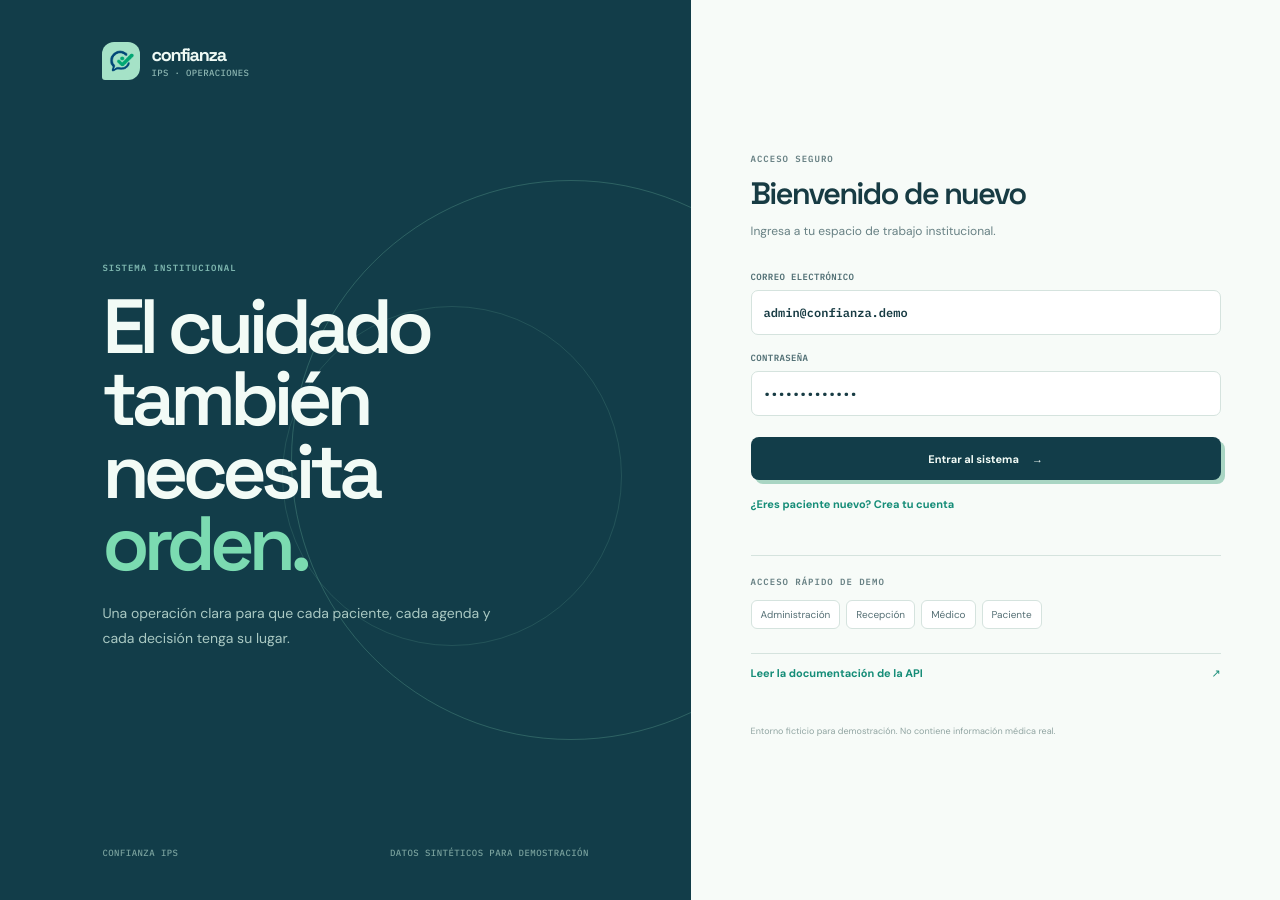
it: LoginScreen › opens a patient-only registration form and validates password confirmation
The width and height of the screenshot is (1280, 900).
Click the button "¿Eres paciente nuevo? Crea tu cuenta" at [852, 504], box [751,497,954,511]
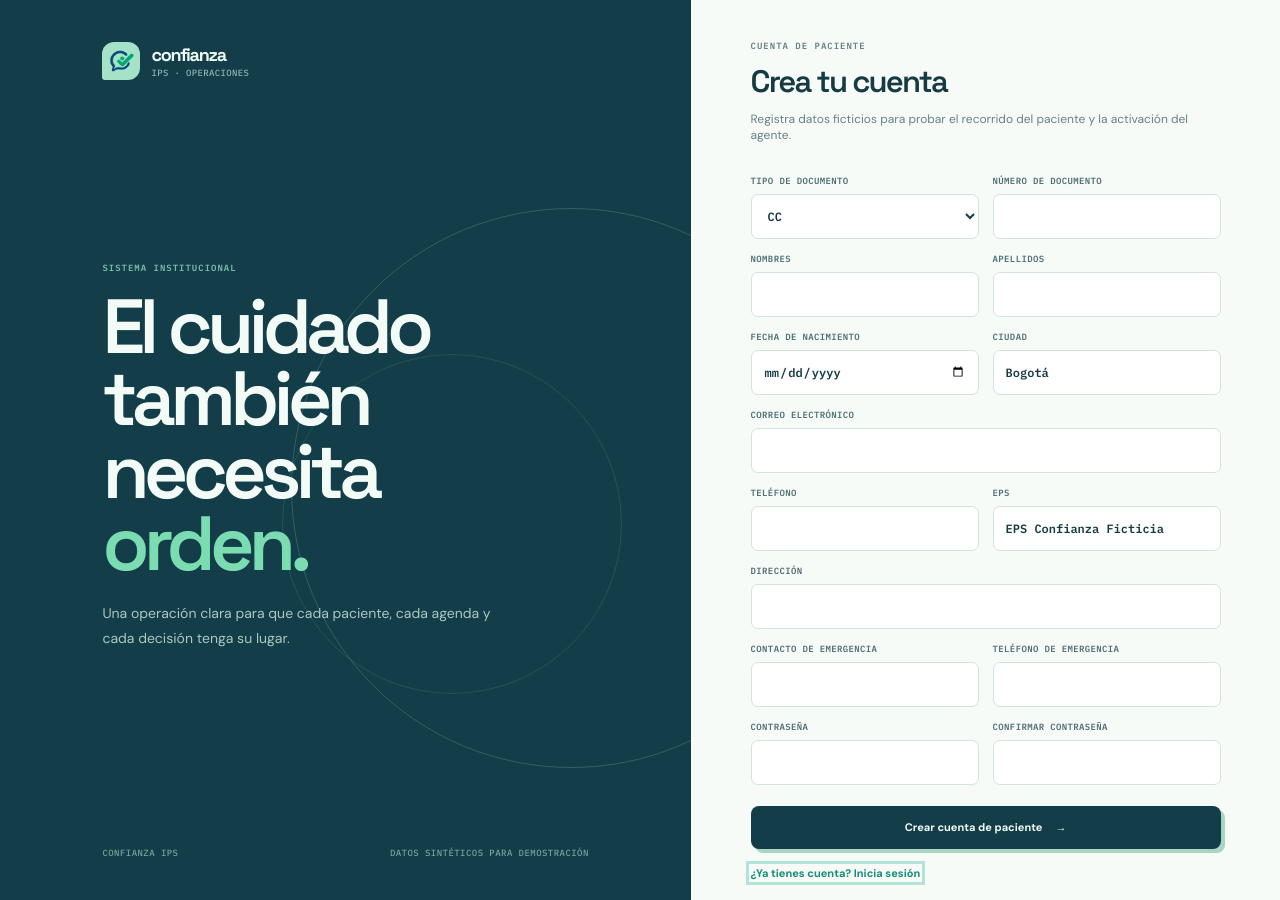
Now the heading "Crea tu cuenta" is shown, box [751,61,947,101]
Type "Password123!" into the password field labelled "Contraseña" at [865, 762], box [751,740,979,785]
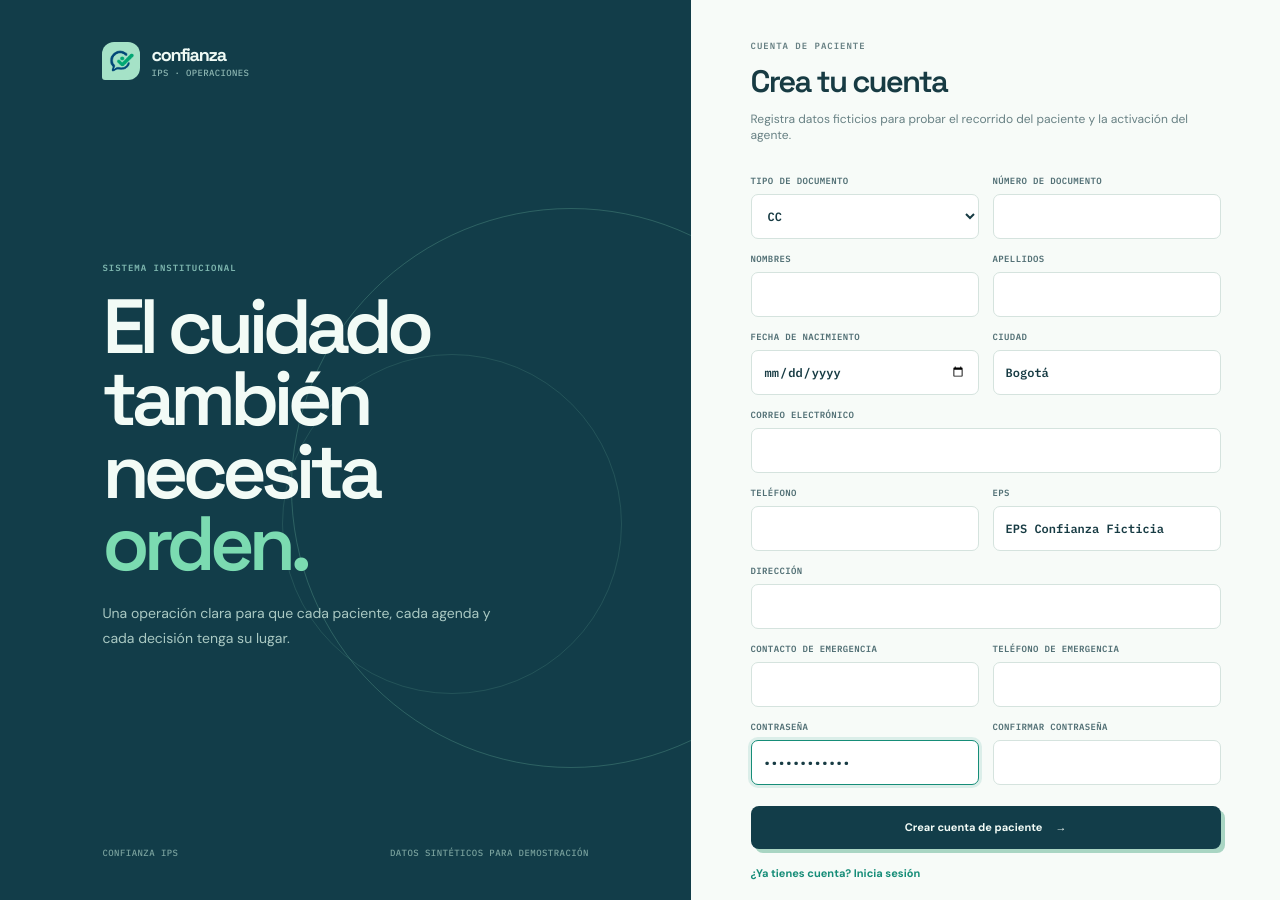
Type "OtraClave123!" into the password field labelled "Confirmar contraseña" at [1107, 762], box [993,740,1221,785]
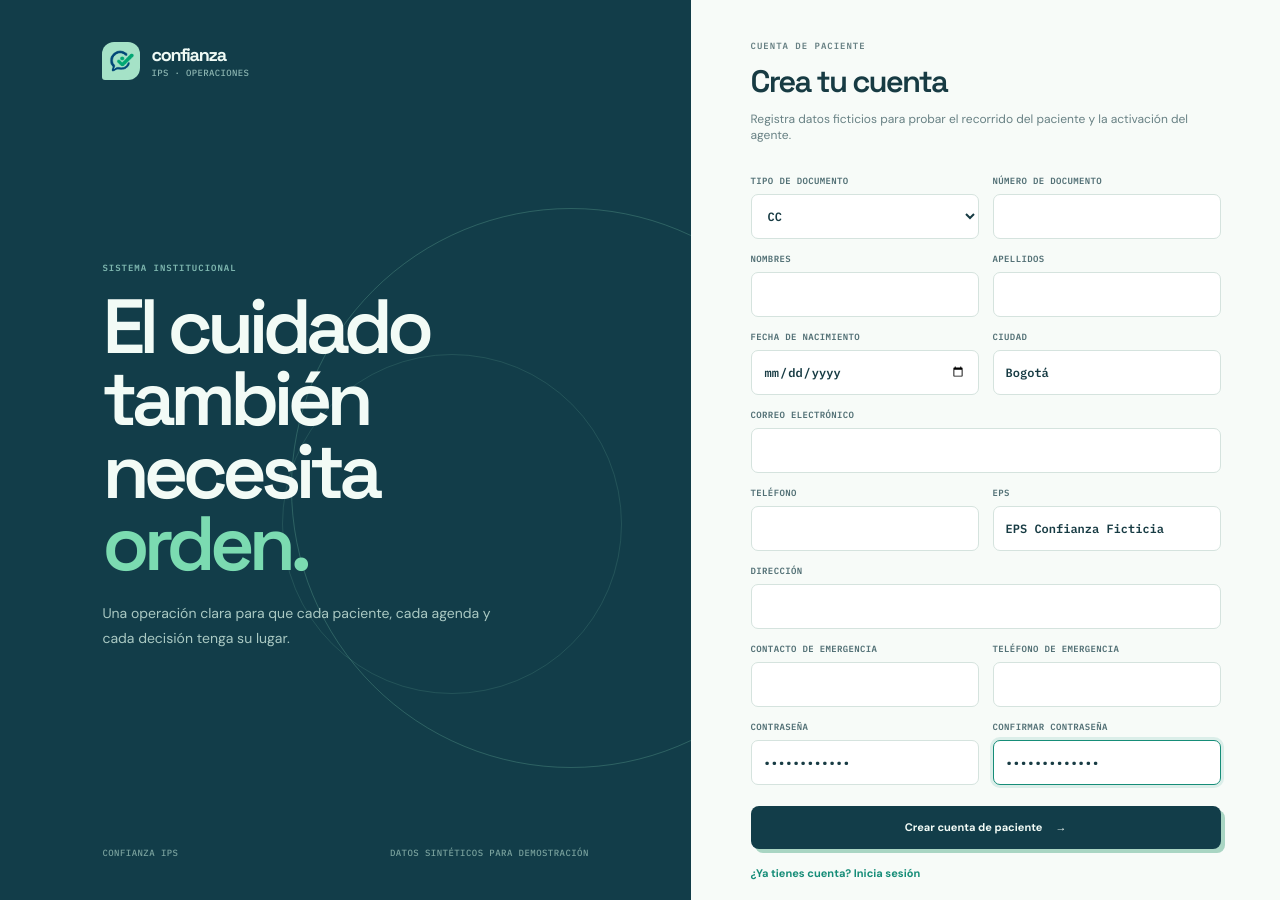
Submit the form named "crear cuenta de paciente", box [751,175,1221,849]
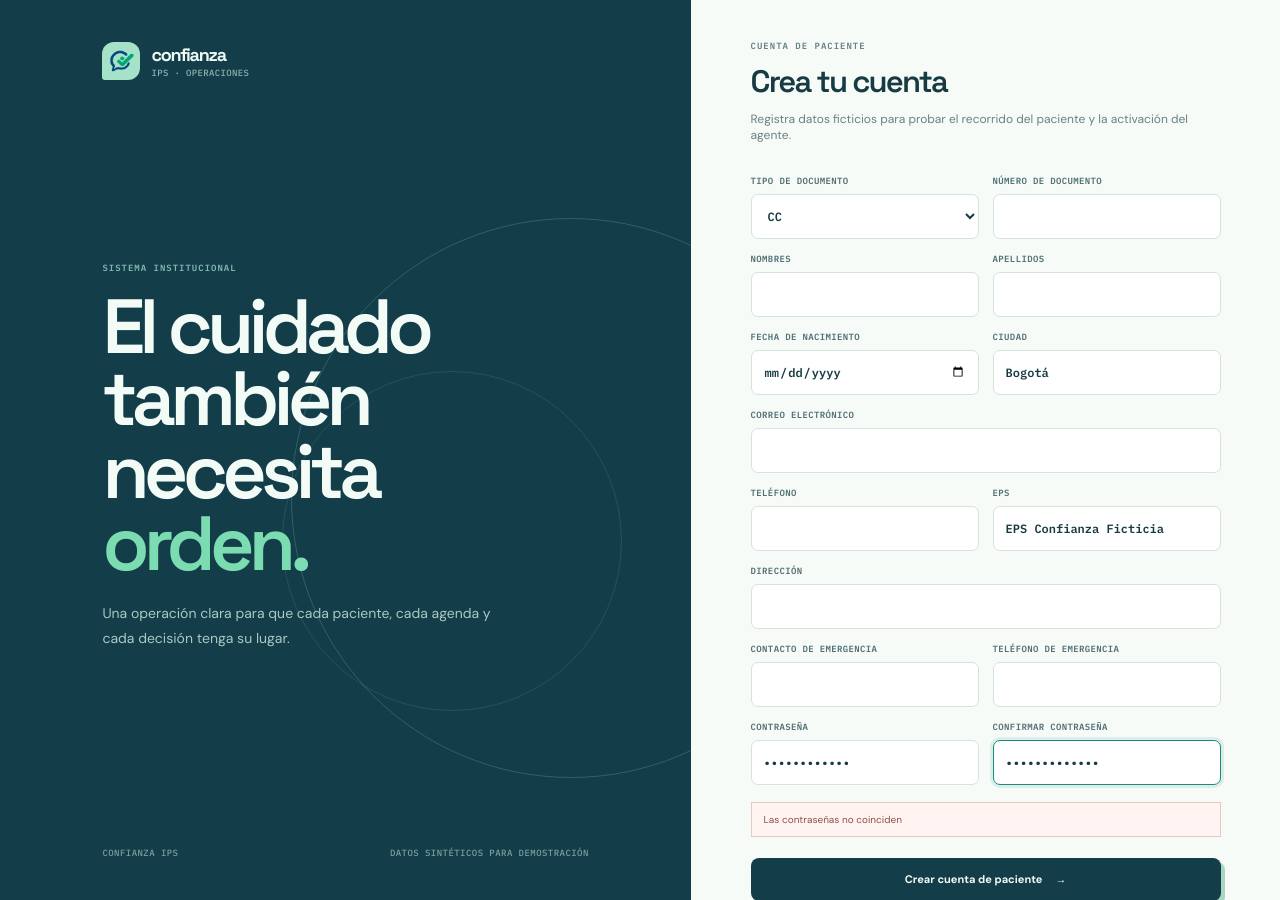
Now the message reads "Las contraseñas no coinciden", box [764,813,902,826]
